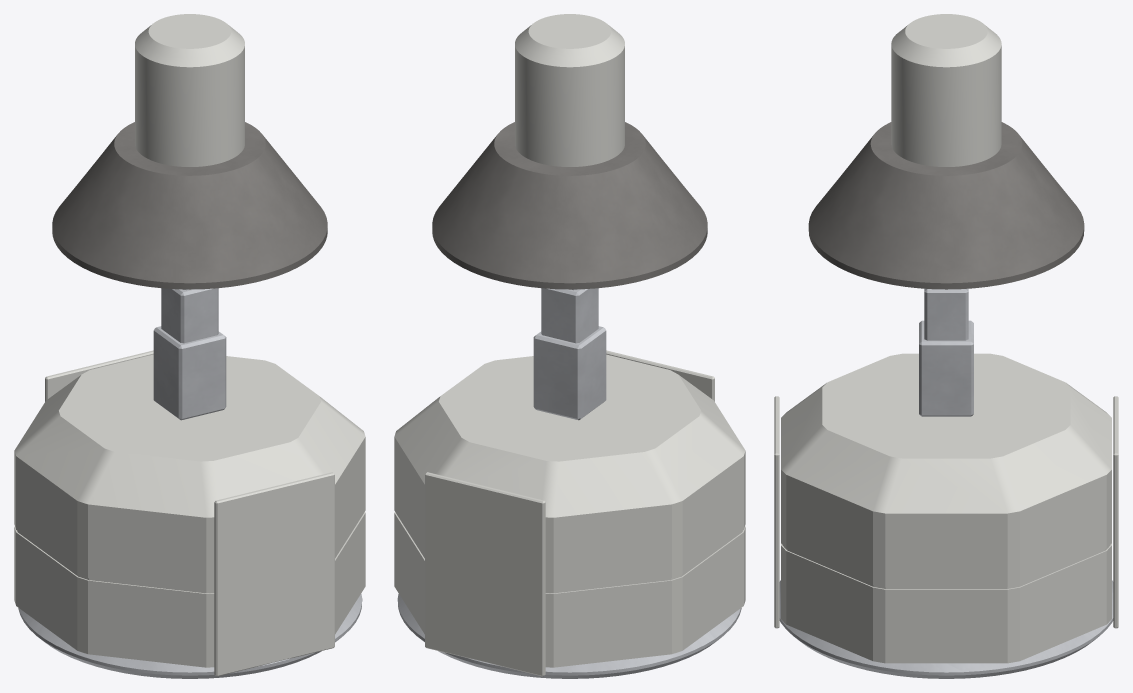
The model's file is ax_power_08_orbital_reactor_100.glb.
3 renders of one model, left to right at view 1: azimuth 30°, elevation 25°; view 2: azimuth 150°, elevation 25°; view 3: azimuth 270°, elevation 25°, orthographic.
Parts seen in each view (by area): view 1: brayton_bus, shadow_shield, panel_radiators, reactor_core, boom, mount_ring; view 2: brayton_bus, shadow_shield, panel_radiators, reactor_core, boom, mount_ring; view 3: brayton_bus, shadow_shield, reactor_core, boom, mount_ring, panel_radiators.
Boxes of the visible parts, x1=… form: brayton_bus: x1=14, y1=354, x2=365, y2=667; shadow_shield: x1=52, y1=122, x2=327, y2=289; panel_radiators: x1=45, y1=350, x2=334, y2=676; reactor_core: x1=135, y1=14, x2=244, y2=166; boom: x1=153, y1=288, x2=226, y2=420; mount_ring: x1=18, y1=594, x2=362, y2=678; brayton_bus: x1=394, y1=354, x2=745, y2=667; shadow_shield: x1=432, y1=122, x2=707, y2=289; panel_radiators: x1=425, y1=350, x2=714, y2=676; reactor_core: x1=515, y1=14, x2=624, y2=166; boom: x1=533, y1=288, x2=606, y2=420; mount_ring: x1=397, y1=594, x2=741, y2=678; brayton_bus: x1=781, y1=353, x2=1111, y2=663; shadow_shield: x1=808, y1=122, x2=1084, y2=289; reactor_core: x1=891, y1=14, x2=1001, y2=166; boom: x1=919, y1=288, x2=973, y2=416; mount_ring: x1=779, y1=580, x2=1113, y2=678; panel_radiators: x1=774, y1=396, x2=1118, y2=628.
Size of the model in its own units: 2.5 by 4.62 by 2.5.
3 materials, 2 textured.
